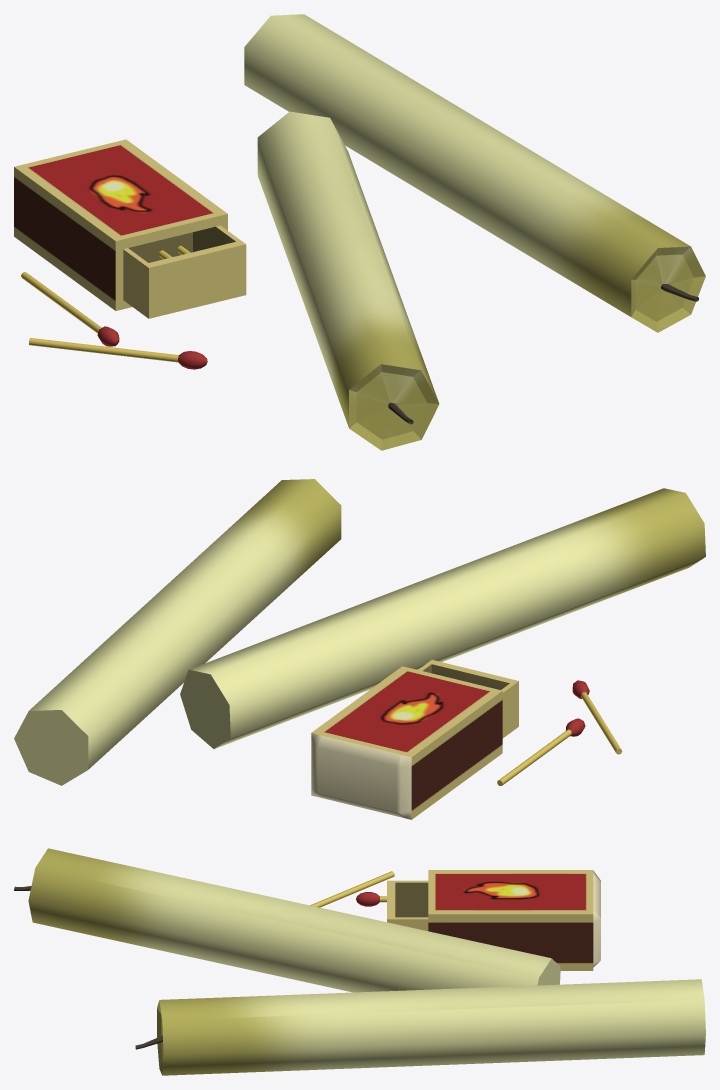
The model's file is CandleAndMatchbox.fbx.
3 views of the same model, one above another, from view 1: azimuth 30°, elevation 25°; view 2: azimuth 150°, elevation 25°; view 3: azimuth 270°, elevation 25° (orthographic). The views are drawn at different scales.
Parts seen in each view (by area): view 1: pSphere21; view 2: pSphere21; view 3: pSphere21.
Boxes of the visible parts, x1,y1,x2,y2 form: pSphere21: (14, 14, 705, 450); pSphere21: (14, 479, 705, 819); pSphere21: (14, 848, 705, 1075).
Bounding box in the file's own units: 25.36 × 5.12 × 34.95.
Materials: 3 (3 with a texture image).
